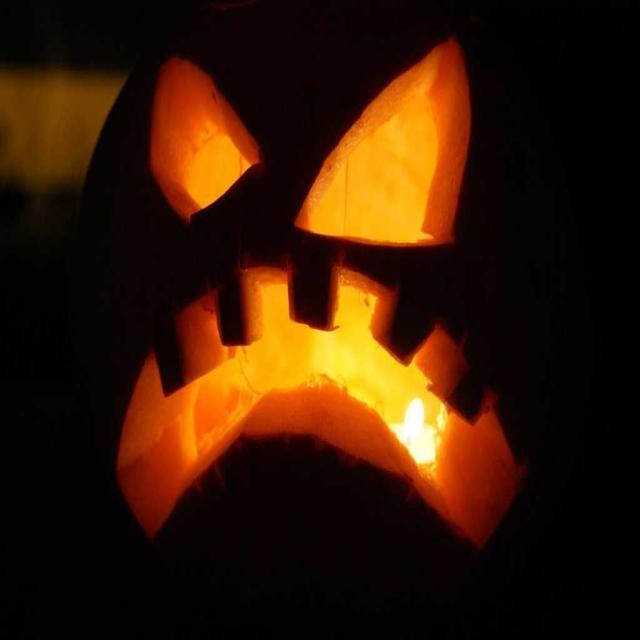Fire: (395, 402, 447, 462)
